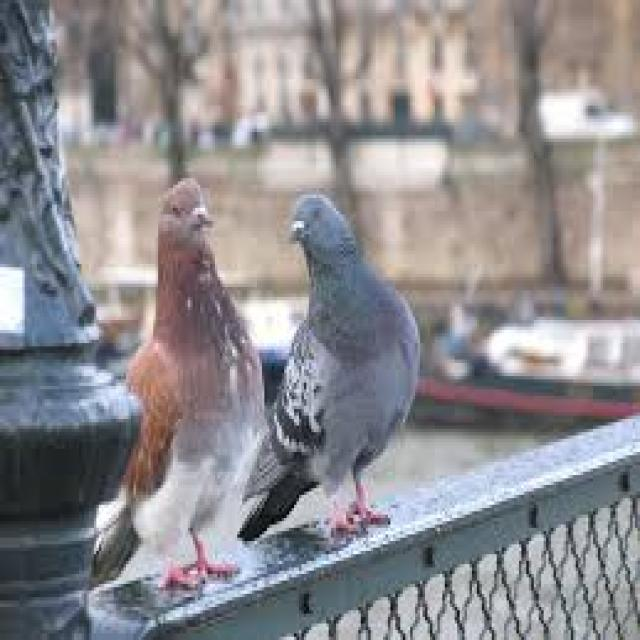pigeon: (110, 149, 266, 586)
